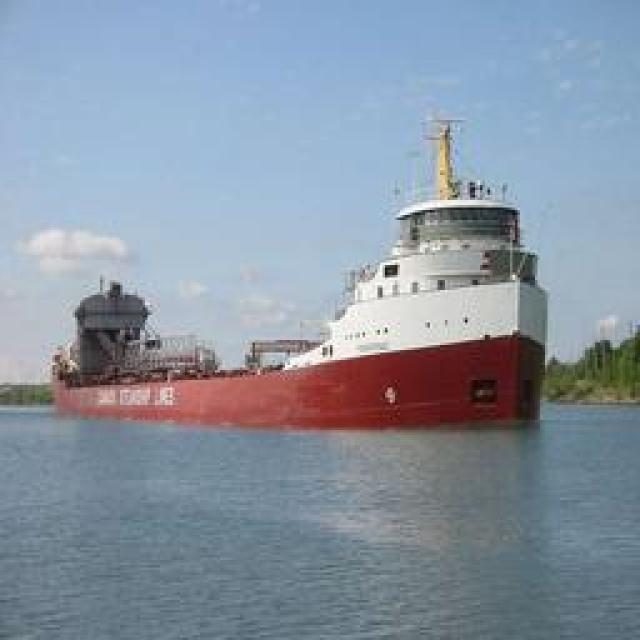ship2: (51, 112, 549, 434)
